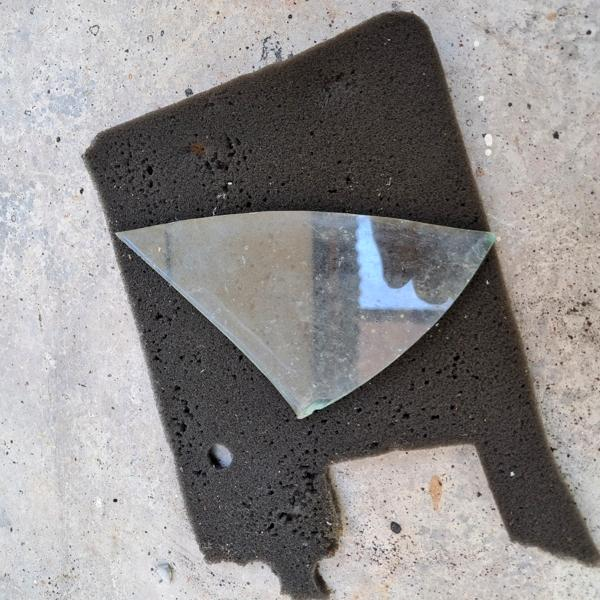Anorganik: (105, 160, 510, 423)
